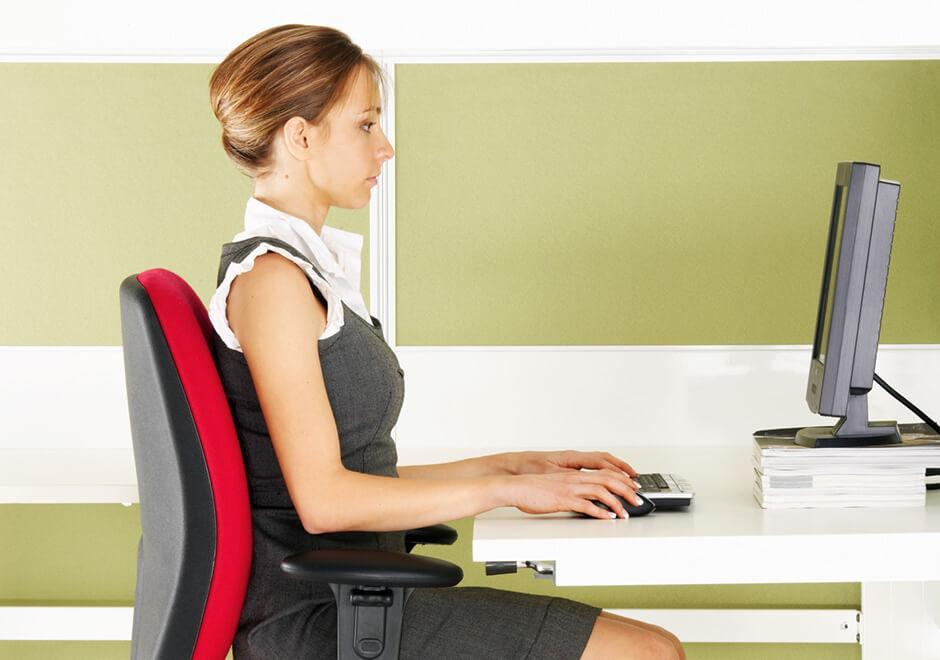Good Sitting Posture: (201, 22, 688, 657)
